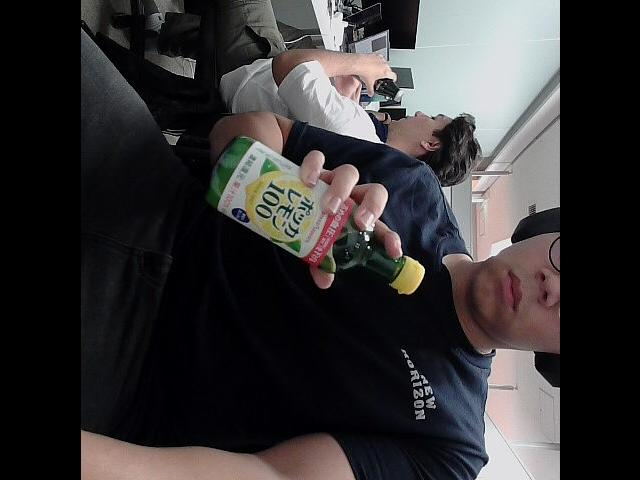Lemon_sapporo: (211, 129, 428, 301)
